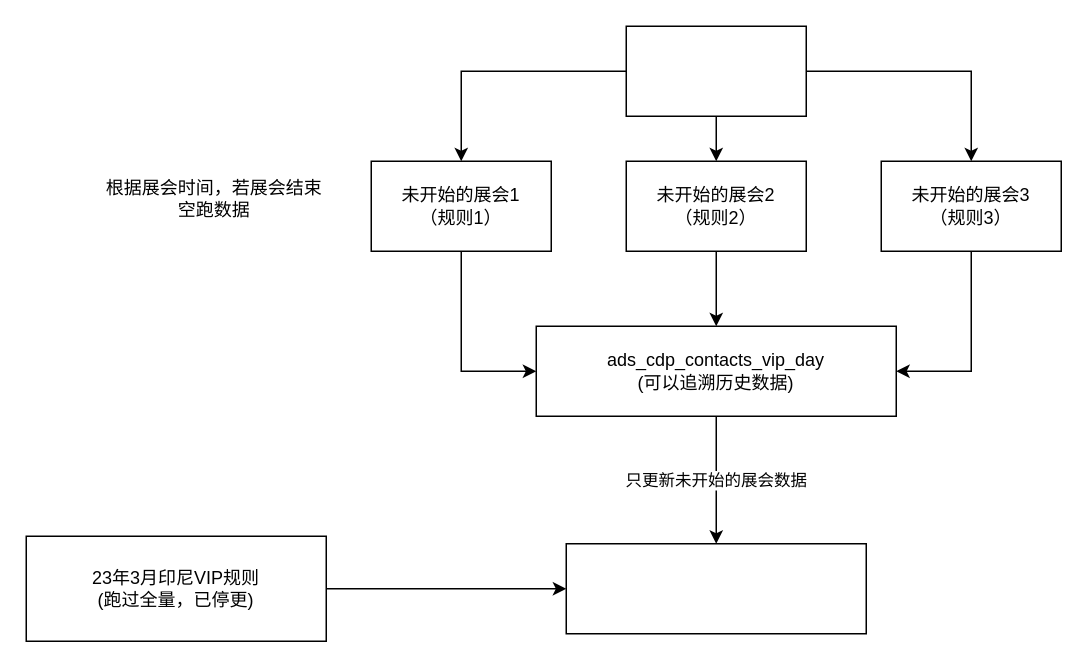
Image size: 1088x668. Some labels were removed from this diagram. The shapes that lost their labels are listed below. From the top down, each one's centre as x and y in pixels, then its label:
At (715,70): "日更新".
At (715,588): "ads_cdp_contacts_vip （展会id为分区）（BI用）".
